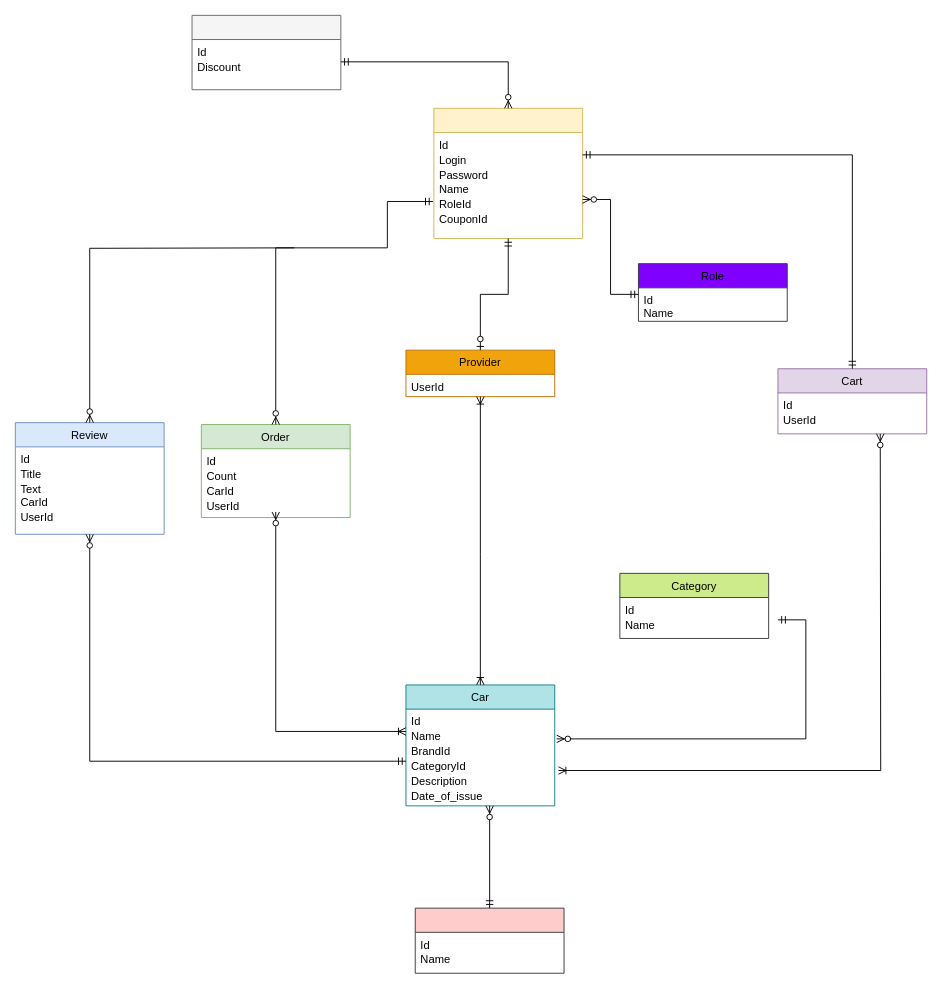
Image size: 942x989. Some labels were removed from this diagram. Each missing label, with the box of its shape:
Brand: (414, 907, 564, 973)
Coupon: (191, 14, 341, 90)
User: (433, 107, 583, 239)
